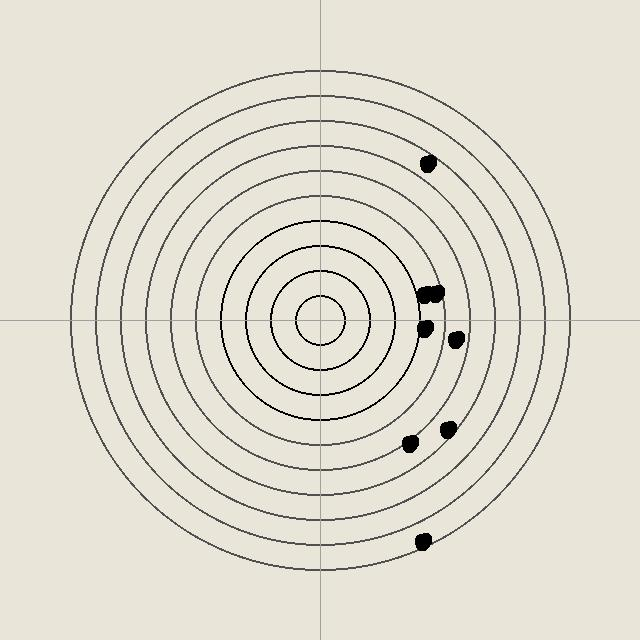vertical_scatter: (414, 318, 434, 338), (425, 283, 445, 303), (414, 284, 434, 304), (412, 531, 432, 551), (445, 329, 465, 349), (437, 419, 457, 439), (399, 433, 419, 453), (417, 153, 437, 173)
